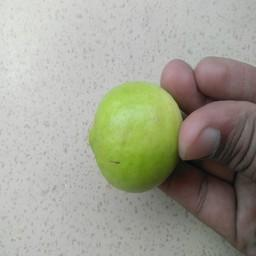Good_lime: (88, 78, 184, 193)
